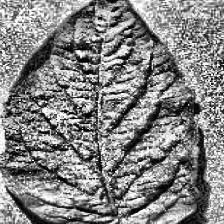Blossom Blight: (142, 71, 185, 102), (37, 105, 84, 132), (137, 148, 172, 182), (97, 78, 132, 107), (130, 40, 167, 66)
